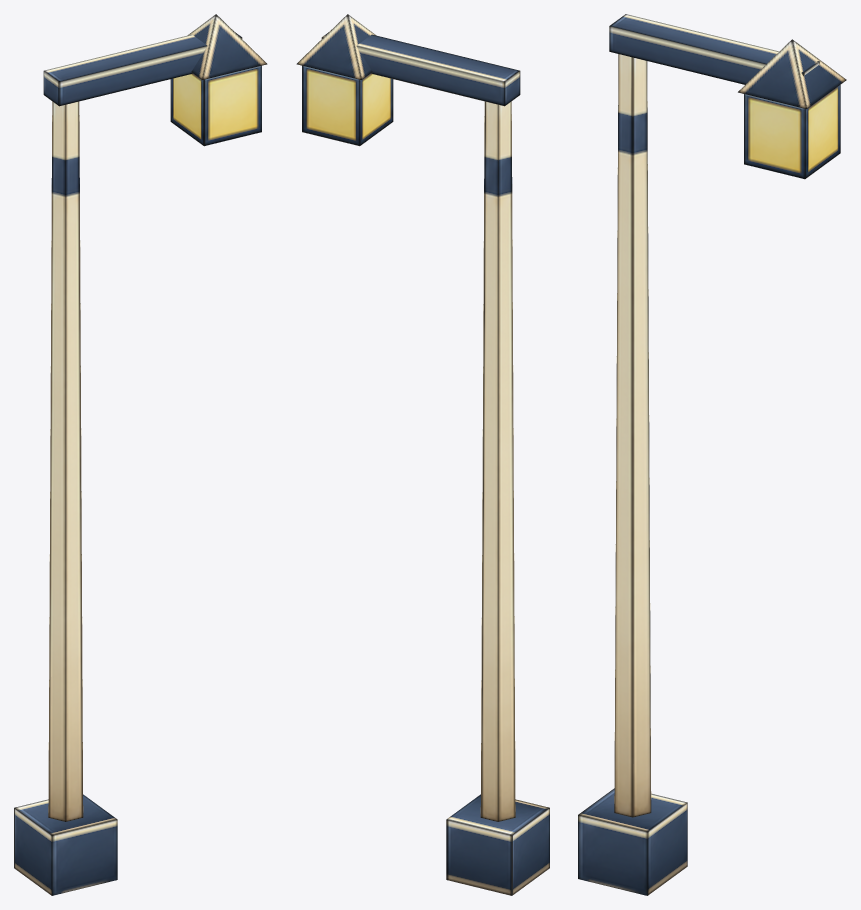
Rendered from lamp_post.glb.
3 renders of one model, left to right at view 1: azimuth 30°, elevation 25°; view 2: azimuth 150°, elevation 25°; view 3: azimuth 330°, elevation 25°, orthographic. The views are drawn at different scales.
Visible parts, largest first — view 1: screenrace_lamp; view 2: screenrace_lamp; view 3: screenrace_lamp.
Boxes of the visible parts, left/top/right/bottom form: screenrace_lamp: left=14, top=14, right=267, bottom=895; screenrace_lamp: left=296, top=14, right=549, bottom=895; screenrace_lamp: left=578, top=14, right=846, bottom=895.
Size of the model in its own units: 1.12 by 4.08 by 0.34.
1 material, 1 textured.
